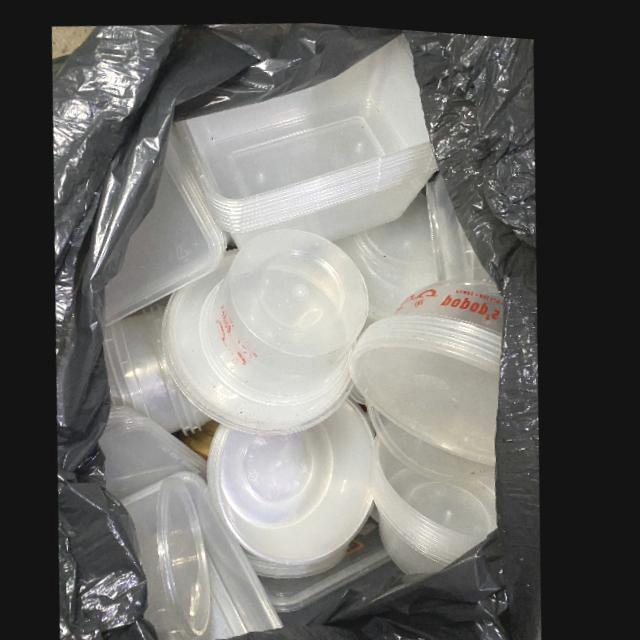plastic_container: (174, 28, 439, 234), (166, 223, 373, 429), (211, 392, 382, 572), (354, 273, 507, 458), (109, 134, 233, 325), (377, 433, 504, 569), (106, 289, 217, 431), (129, 472, 222, 634)
